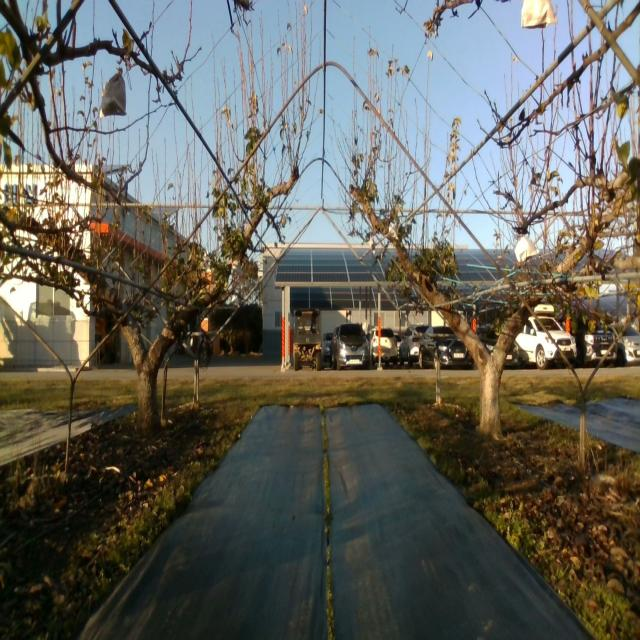pearbags: (100, 67, 128, 120), (520, 0, 558, 29), (514, 231, 540, 264)
